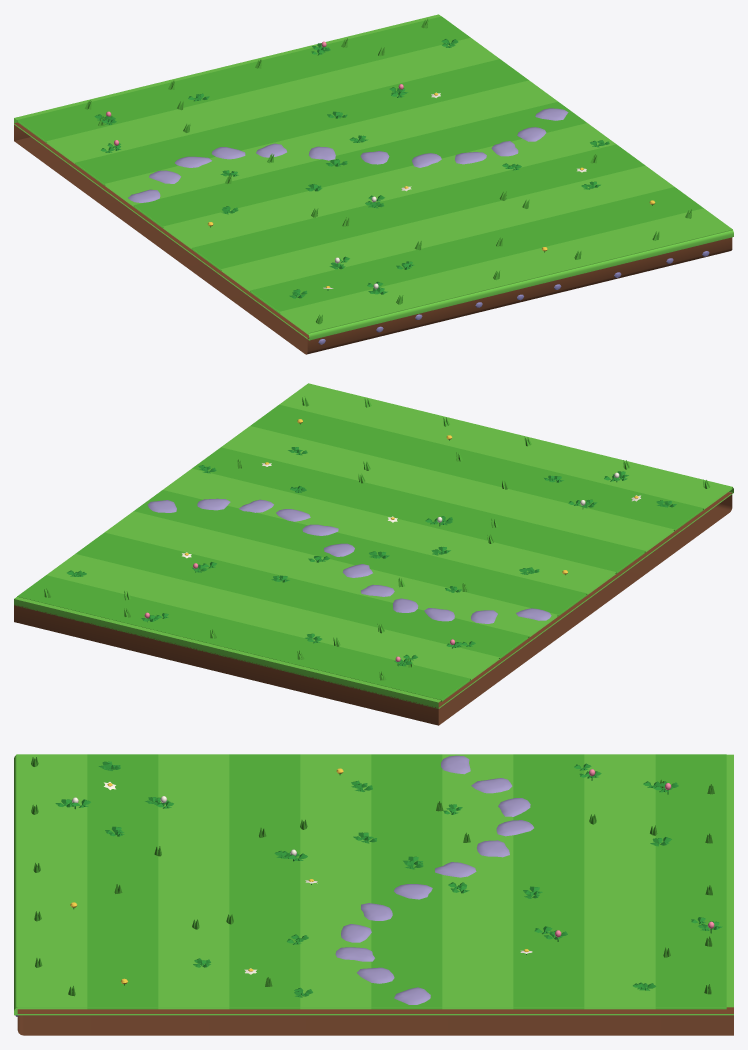
File: garden_floor.glb
3 renders of one model, top to bottom at view 1: azimuth 30°, elevation 25°; view 2: azimuth 150°, elevation 25°; view 3: azimuth 270°, elevation 25°, orthographic. The views are drawn at different scales.
Visible parts, largest first — view 1: garden_floor; view 2: garden_floor; view 3: garden_floor.
Boxes of the visible parts, x1=… form: garden_floor: x1=14, y1=14, x2=733, y2=354; garden_floor: x1=14, y1=383, x2=733, y2=725; garden_floor: x1=14, y1=754, x2=733, y2=1035.
Bounding box in the file's own units: 8 × 0.5902 × 9.63.
